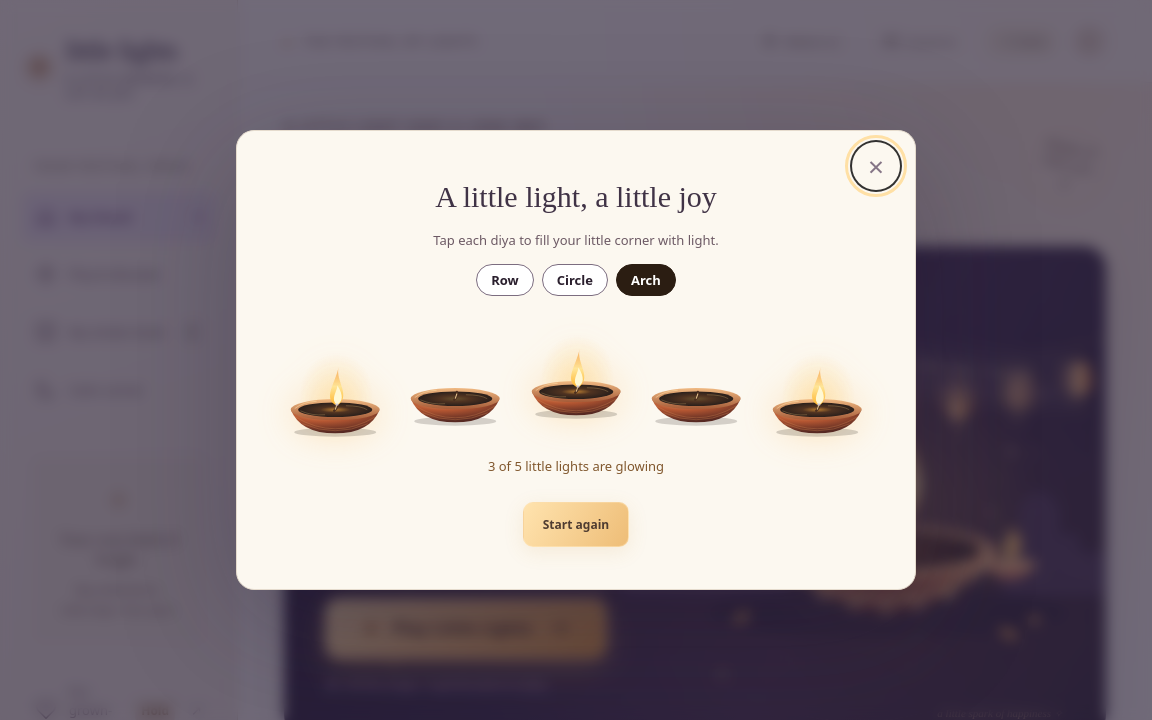
Test: Task D2 — Persist Creative Activities and Make Exports Usable on Phones › 2. Diya arrangements, interactivity, and completed scene › persists lit diyas and chosen arrangement across activity close and reload
Click the button "Circle": click(575, 280) x1=542 y1=264 x2=608 y2=296
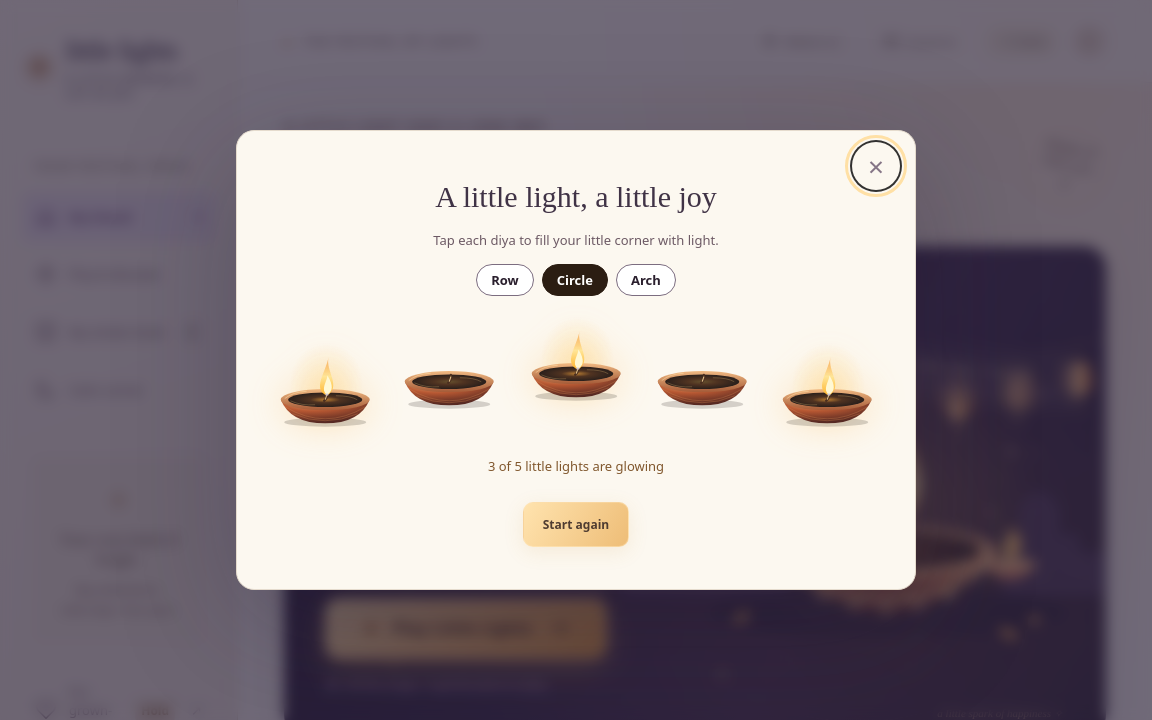
Result: the button "Circle" is pressed at x1=542 y1=264 x2=608 y2=296
Note: Light remaining diyas to complete scene
Click the button named "Light diya 2": click(450, 371) x1=393 y1=321 x2=506 y2=421
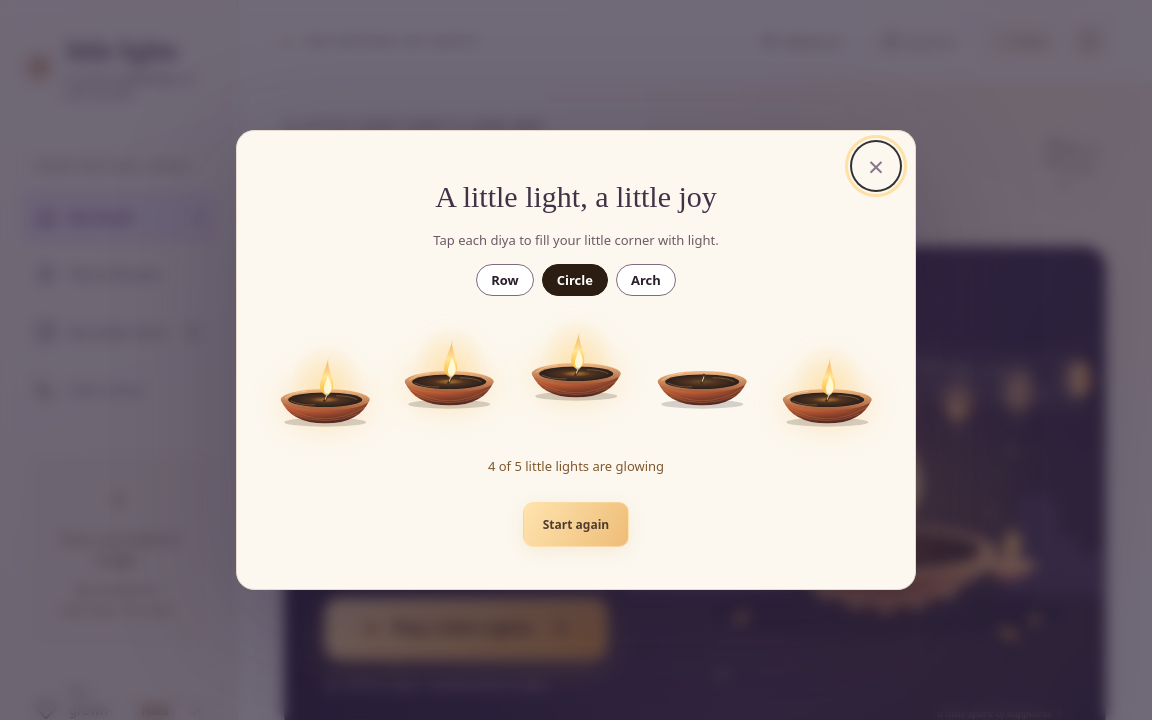
Click the button named "Light diya 4": click(702, 371) x1=646 y1=321 x2=759 y2=421
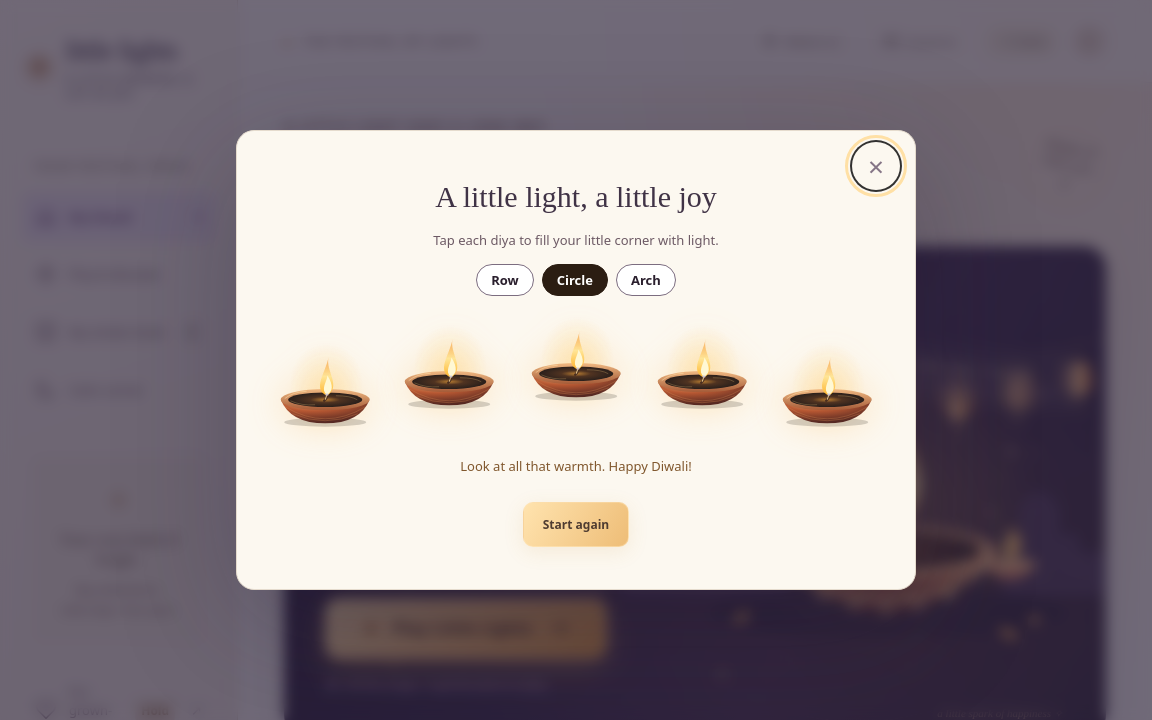
Result: the text "Look at all that warmth. Happy Diwali!" is shown at x1=460 y1=457 x2=692 y2=475
